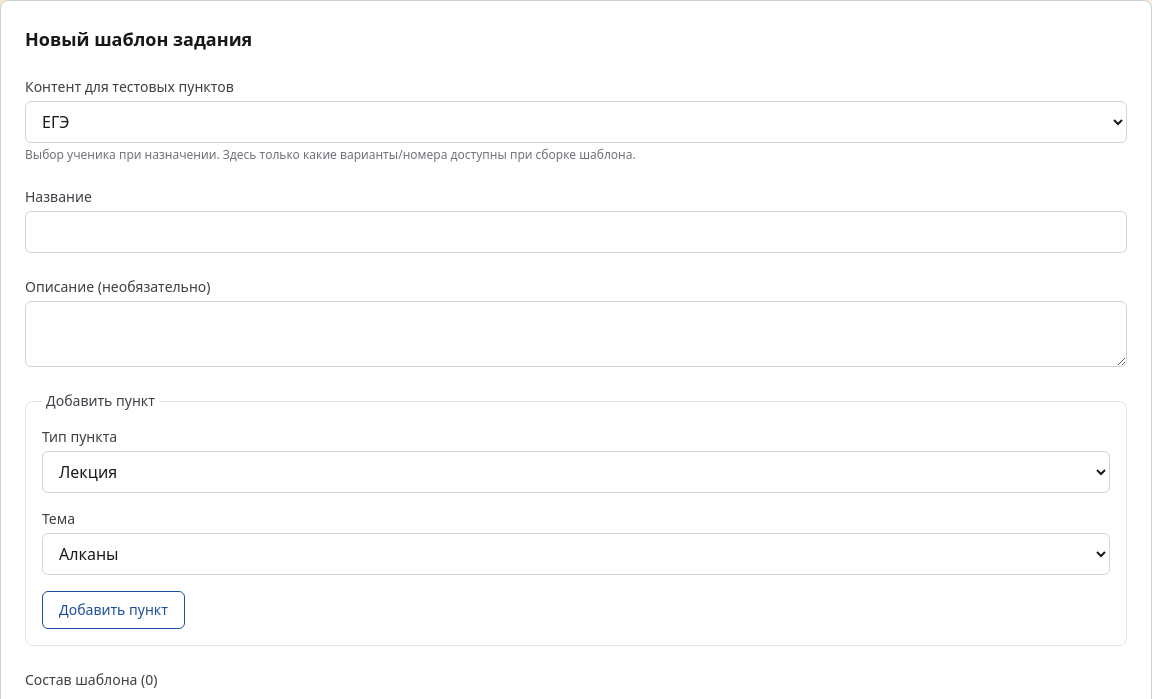
Test: HomeworkForm › shows EGE type range including written tasks 29–34
The image size is (1152, 699).
Select "Тест: выбранные номера" in the dropdown labelled "Тип пункта" at coordinates (576, 472), box [42,451,1110,493]
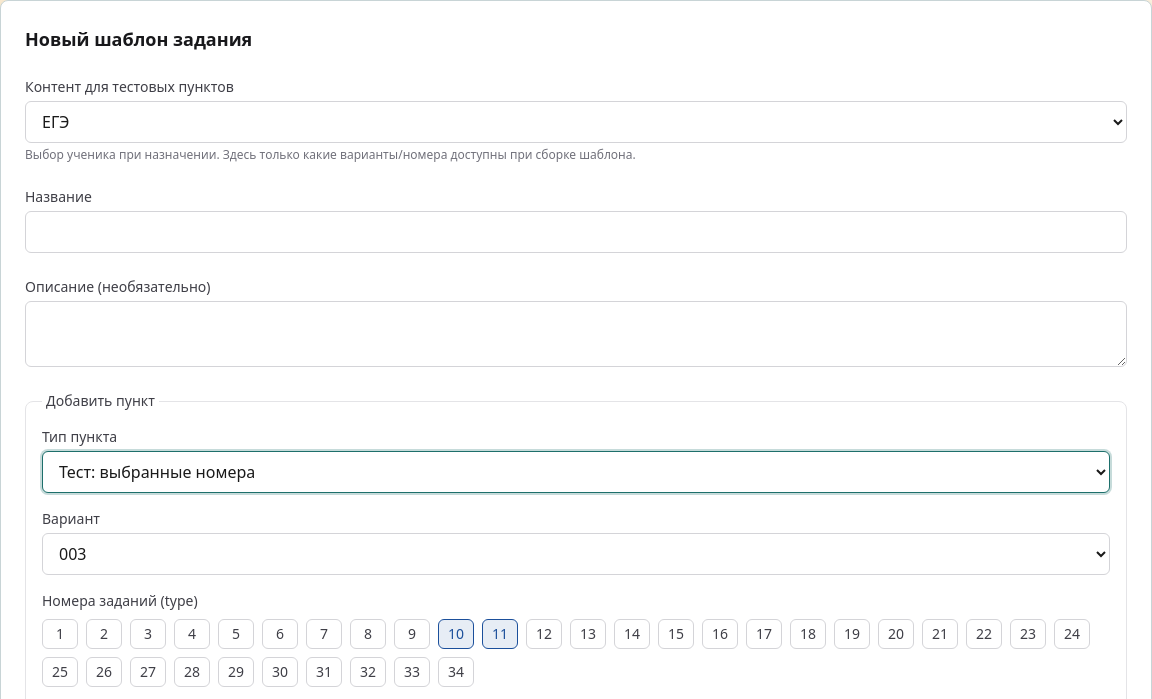
Result: the button "29" is shown at [218,657,254,687]
Result: the button "34" is shown at [438,657,474,687]
